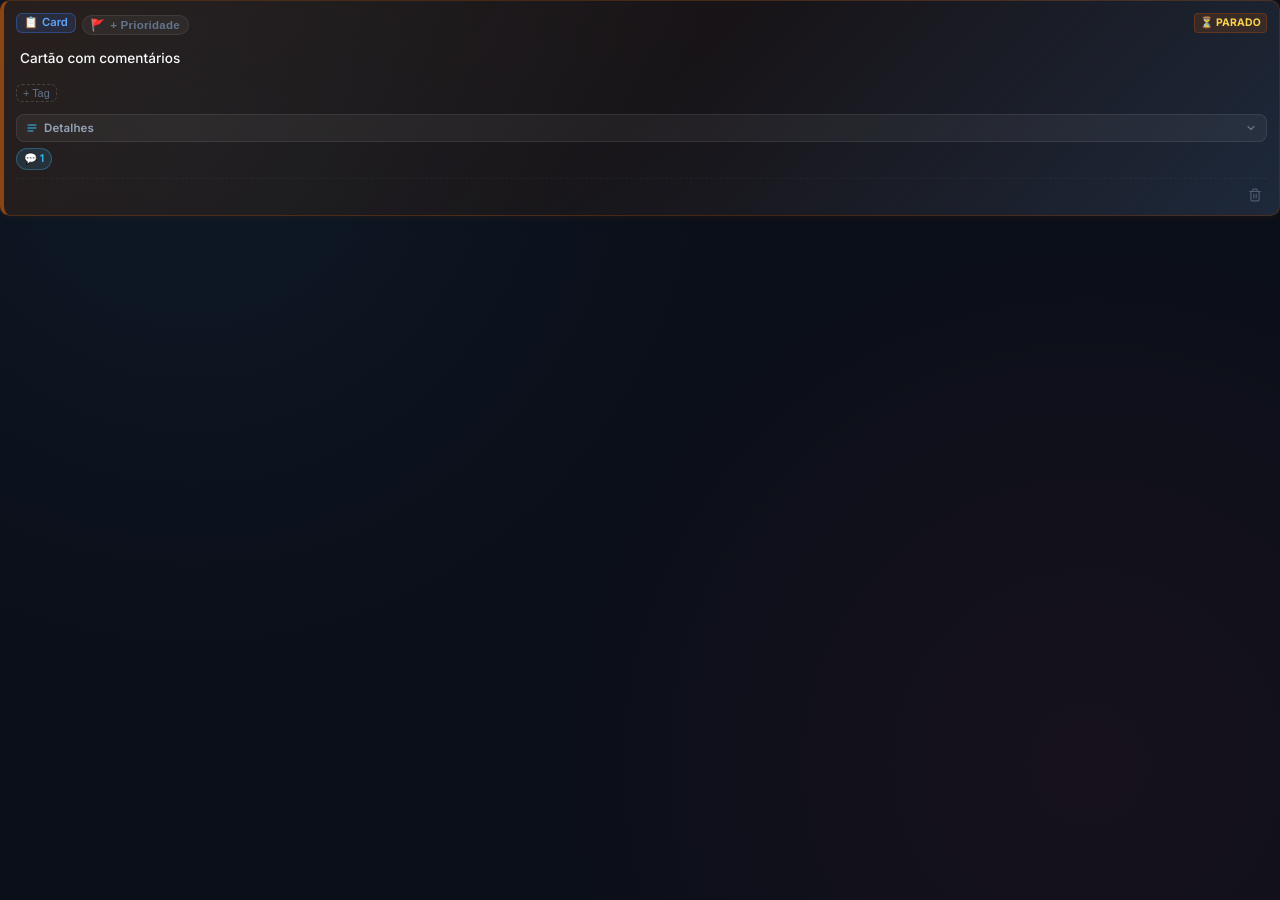
Test: Task card comments (Feature 027 delta) › shows the comment count chip and renders the parent thread when expanded
This screenshot has width=1280, height=900.
Check: the text with test id "task-comments-chip" shows "1", box [40,152,44,165]
Click the button "Detalhes" at (69, 128), box [16,114,1267,142]
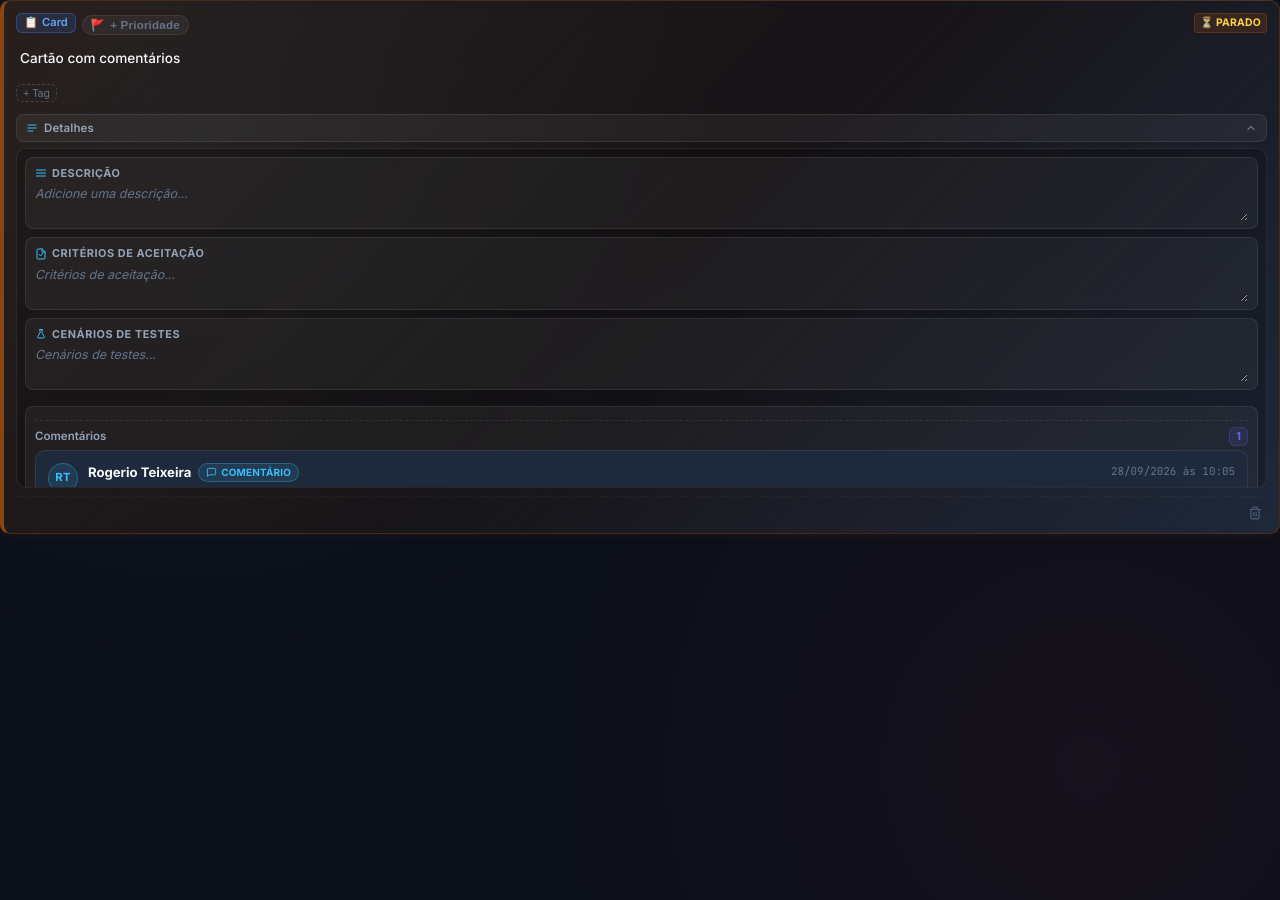
Check: the element with test id "card-comment-thread" is shown, box [35,420,1248,488]
Check: the text with test id "card-comment-author" reads "Rogerio Teixeira", box [88,464,191,480]
